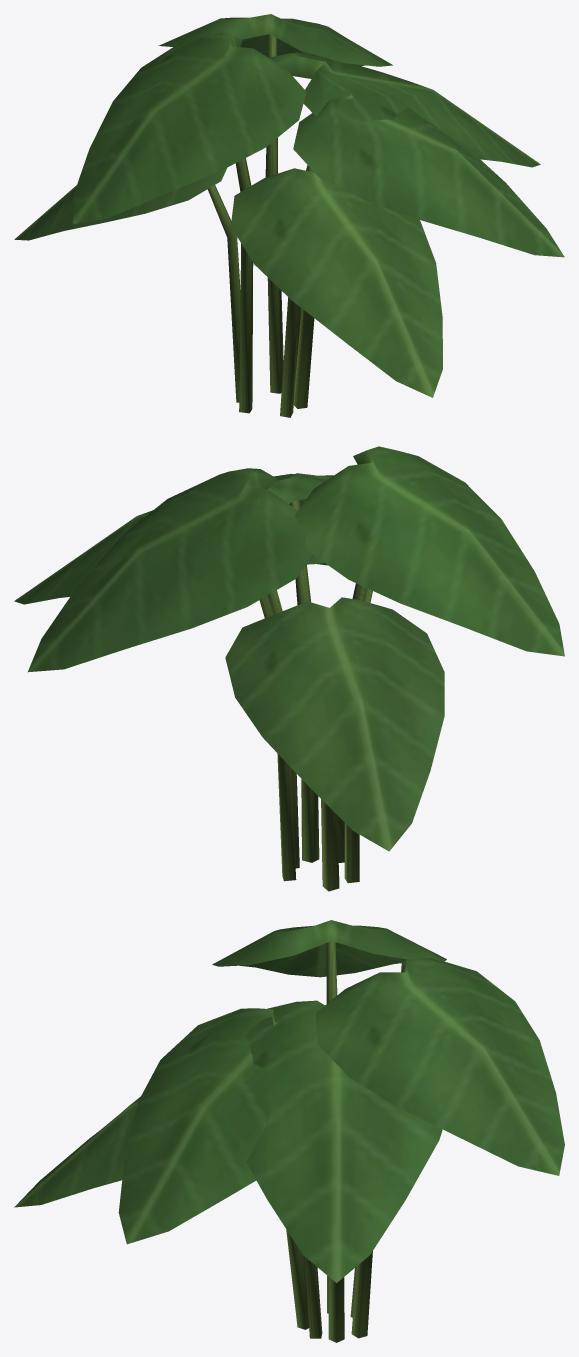
Rendered from Taro_Chembu.glb.
The picture shows the model from 3 angles, top to bottom: view 1: azimuth 30°, elevation 25°; view 2: azimuth 150°, elevation 25°; view 3: azimuth 270°, elevation 25°; orthographic projection. The views are drawn at different scales.
Visible parts, largest first — view 1: Taro_Chembu; view 2: Taro_Chembu; view 3: Taro_Chembu.
Part boxes in pixels (<box>): Taro_Chembu: <box>14,14,564,417</box>; Taro_Chembu: <box>14,446,564,891</box>; Taro_Chembu: <box>14,920,564,1342</box>.
Size of the model in its own units: 1.34 by 1 by 1.29.
1 material, 1 textured.
